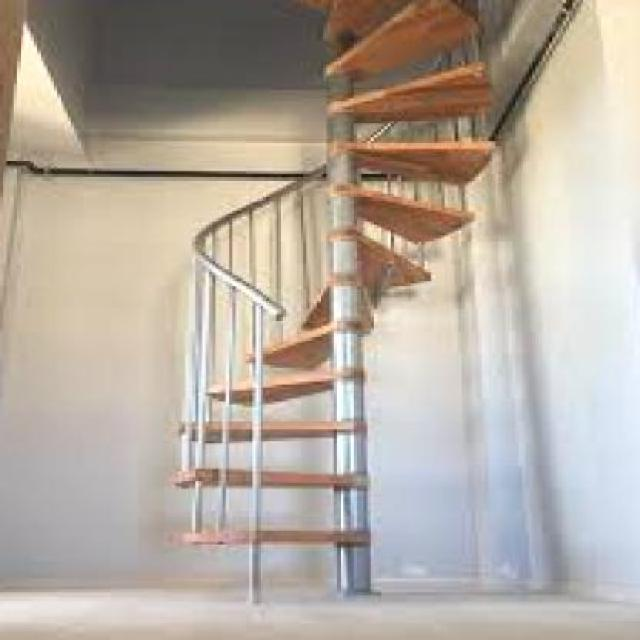stair: (156, 8, 518, 590)
